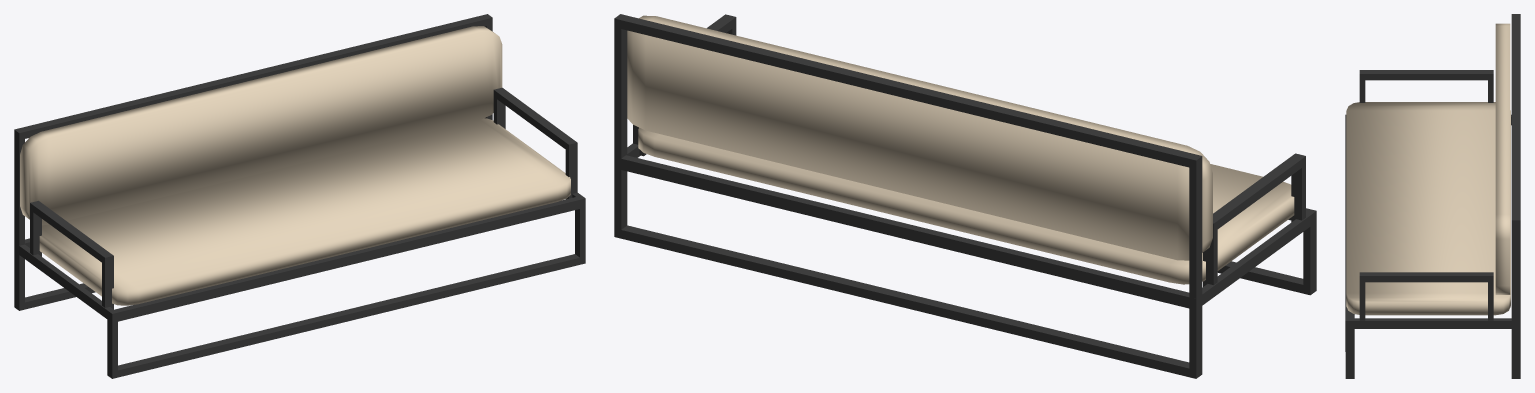
Rendered from ModernSofa.glb.
3 renders of one model, left to right at view 1: azimuth 30°, elevation 25°; view 2: azimuth 150°, elevation 25°; view 3: azimuth 270°, elevation 25°, orthographic. The views are drawn at different scales.
Visible parts, largest first — view 1: modernSofa; view 2: modernSofa; view 3: modernSofa.
Boxes of the visible parts, x1,y1,x2,y2 form: modernSofa: [14, 14, 585, 378]; modernSofa: [614, 14, 1316, 378]; modernSofa: [1345, 14, 1520, 378].
Size of what is drawn, in the model's own units: 3.76 by 1.35 by 1.35.
Materials: 1 (1 with a texture image).
